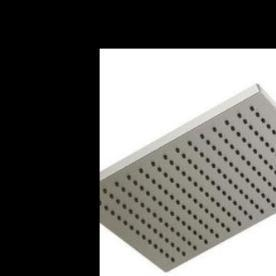Ducha: (100, 69, 276, 275)
